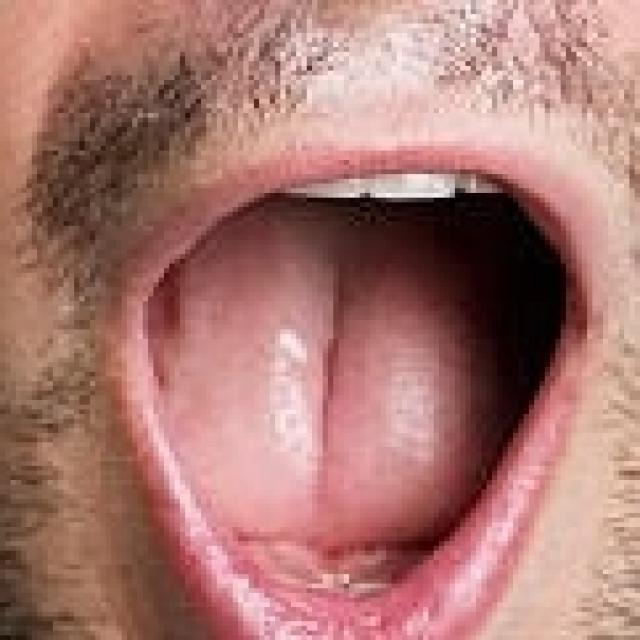open-mouth: (114, 131, 603, 640)
